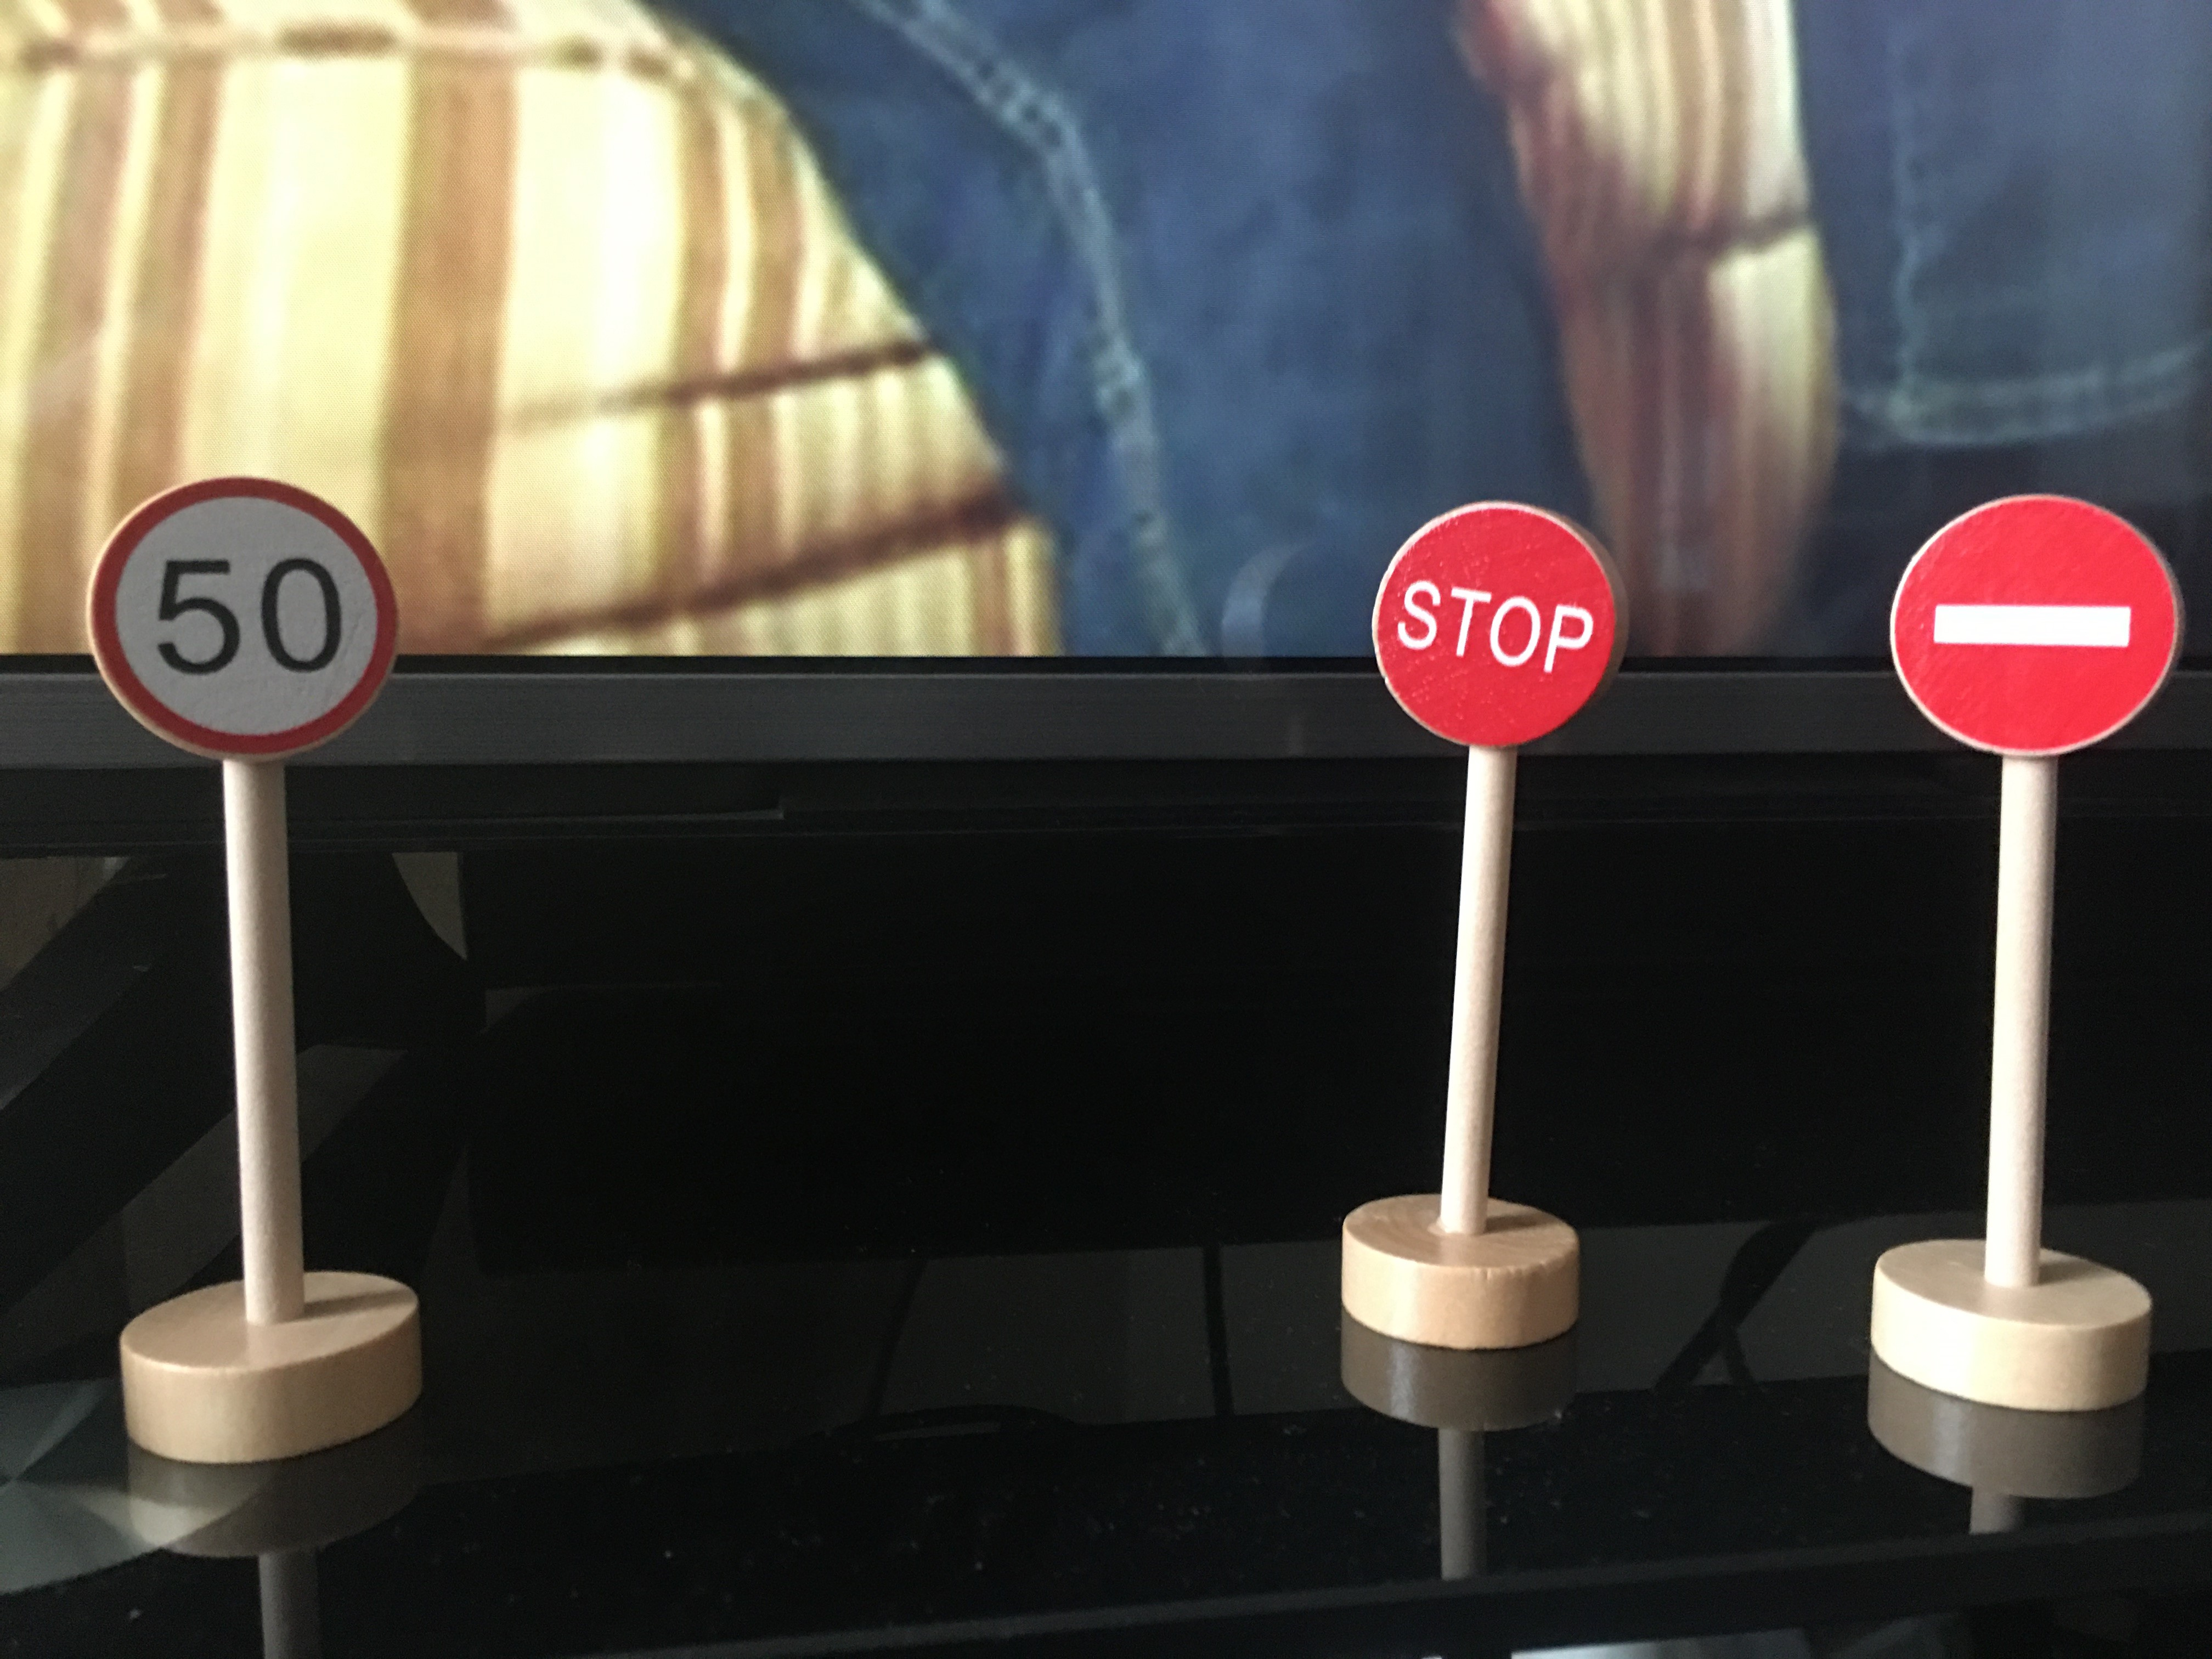Traffic_Sign_50: (91, 481, 402, 755)
Traffic_Sign_No_Entry: (1885, 491, 2177, 758)
Traffic_Sign_Stop: (1374, 498, 1620, 739)
